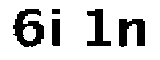1: (81, 5, 116, 55)
6: (13, 3, 45, 51)
i: (49, 4, 70, 53)
n: (117, 12, 150, 53)
